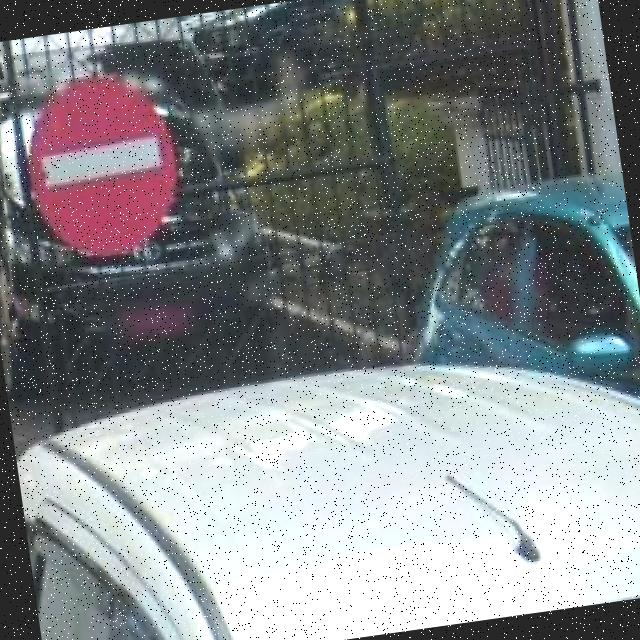Zakaz wjazdu: (21, 69, 186, 268)
